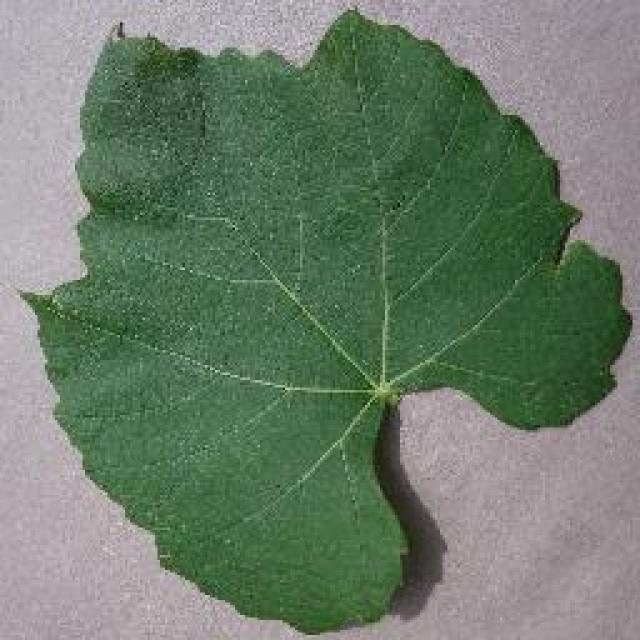Healthy: (69, 19, 640, 632)
